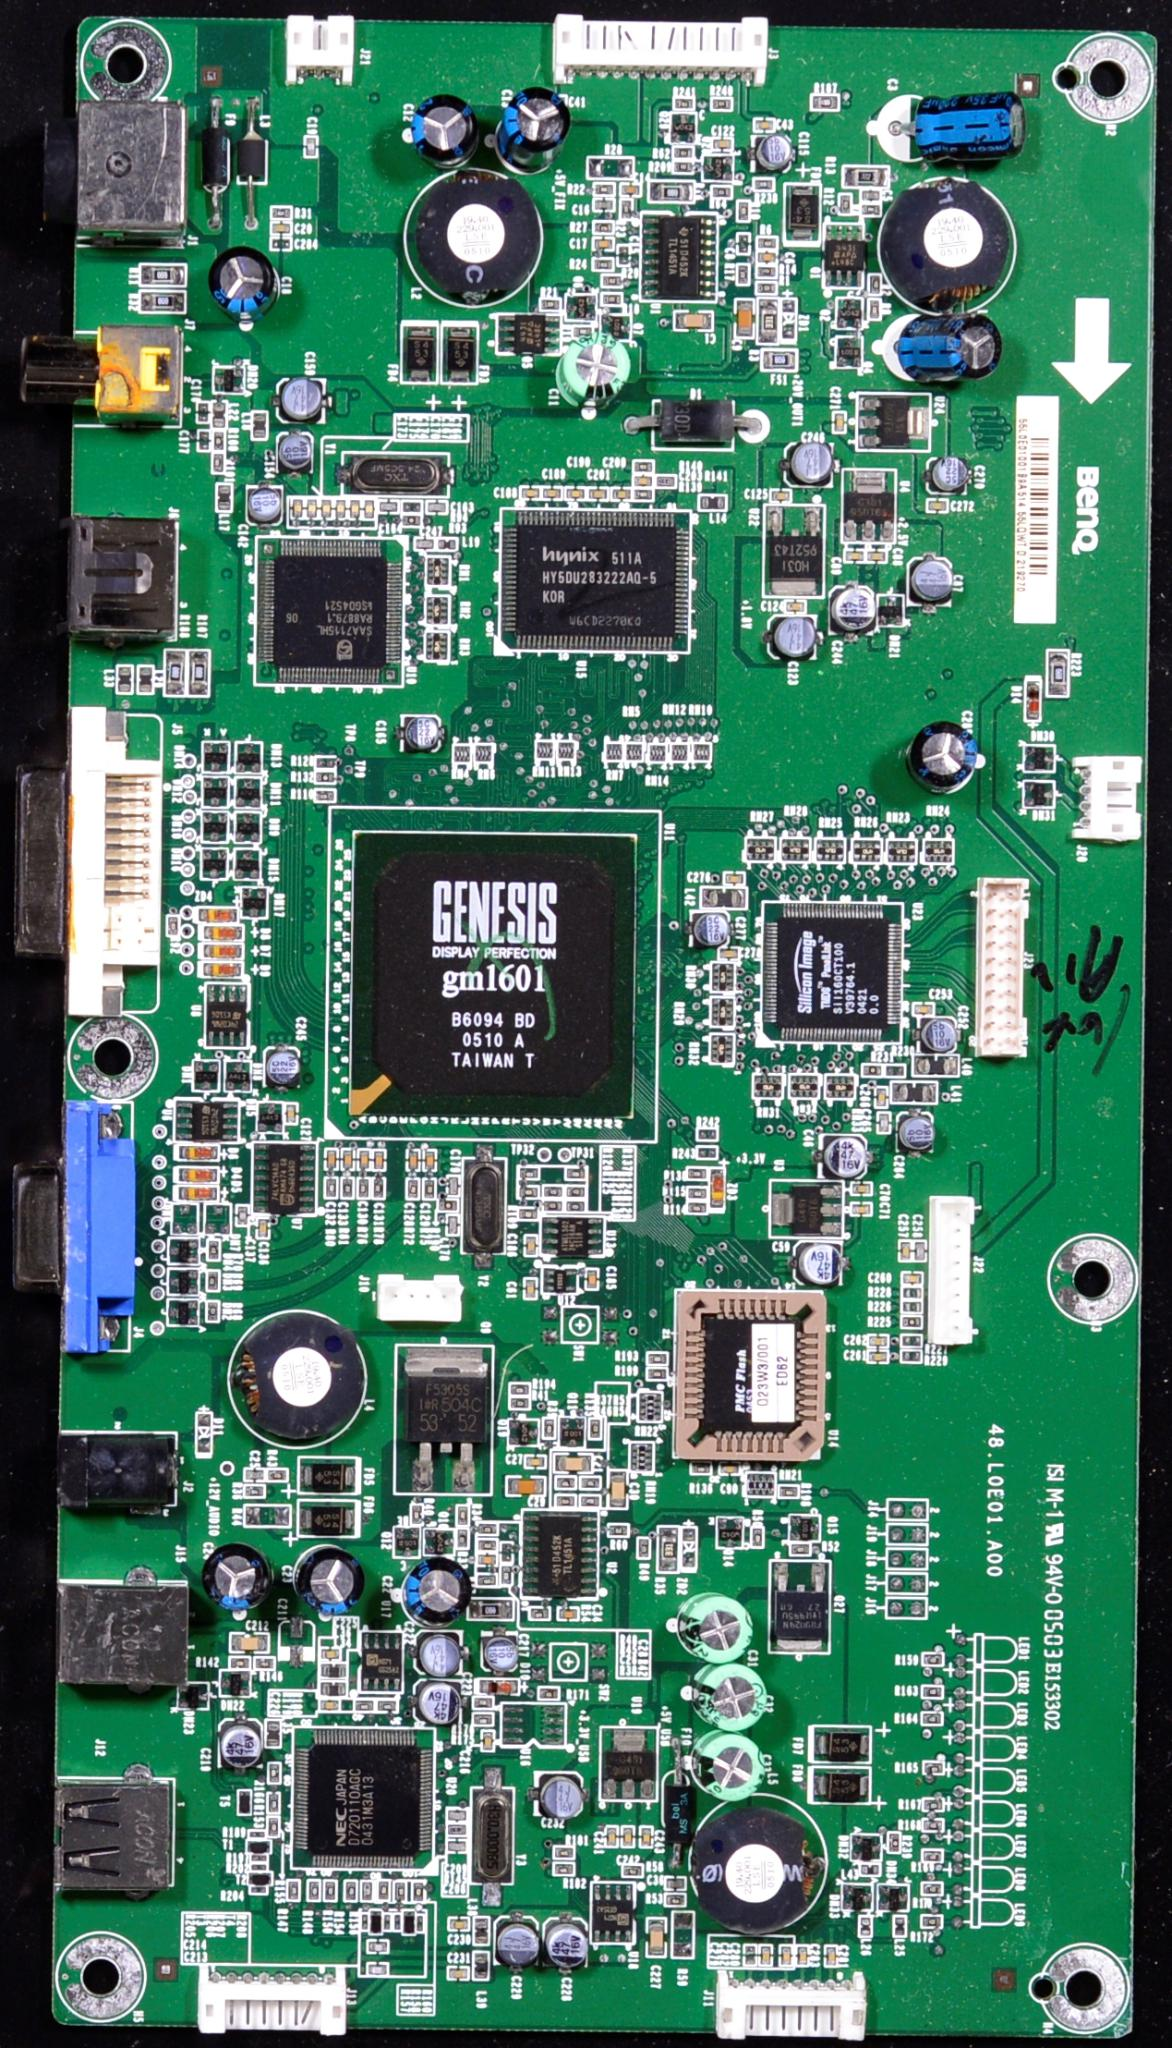Capacitor Jumper: (675, 309, 711, 331), (606, 1468, 625, 1506), (736, 300, 753, 339), (231, 1634, 266, 1651), (554, 1454, 591, 1470), (647, 1920, 663, 1955), (291, 1618, 302, 1665), (509, 1478, 542, 1494), (767, 488, 791, 502), (712, 136, 734, 151), (270, 236, 294, 249), (753, 118, 774, 132), (926, 499, 947, 513), (414, 536, 435, 550), (243, 1468, 266, 1481), (591, 236, 613, 249), (913, 1001, 933, 1016), (325, 1151, 339, 1170), (832, 412, 846, 432), (850, 1203, 871, 1215), (235, 1205, 248, 1227), (446, 1809, 467, 1822), (639, 1826, 651, 1847), (445, 1840, 466, 1852), (366, 1940, 387, 1952), (447, 1966, 469, 1979), (756, 250, 777, 263), (608, 487, 629, 499), (426, 501, 447, 513), (843, 550, 864, 563), (622, 1864, 640, 1878), (449, 1917, 467, 1931), (850, 1183, 870, 1196), (523, 1235, 536, 1255), (900, 1272, 920, 1284), (559, 1606, 578, 1619), (620, 183, 640, 196), (564, 487, 584, 499), (304, 135, 315, 156), (718, 1463, 739, 1474), (319, 1647, 340, 1658), (665, 1876, 682, 1890), (197, 402, 208, 423), (197, 430, 208, 452), (632, 474, 653, 485), (860, 188, 878, 201), (521, 485, 539, 498), (587, 487, 605, 499), (875, 1086, 886, 1106), (898, 1241, 909, 1260), (587, 1270, 598, 1290), (523, 1279, 535, 1298), (867, 1350, 886, 1362), (605, 1827, 616, 1847), (622, 1827, 633, 1847), (868, 550, 885, 563), (722, 873, 743, 883), (256, 1220, 267, 1238), (912, 1242, 923, 1260), (542, 487, 560, 498), (286, 1104, 295, 1124), (342, 1149, 352, 1169), (868, 1335, 888, 1345), (477, 1554, 497, 1564), (319, 1699, 339, 1709), (481, 1732, 491, 1751), (270, 224, 290, 233), (367, 1964, 384, 1975), (719, 948, 737, 958), (447, 1177, 457, 1196), (447, 1217, 457, 1235), (824, 1947, 834, 1965), (349, 499, 359, 518), (502, 1542, 511, 1563), (781, 1948, 791, 1965), (335, 499, 343, 519), (293, 498, 301, 516), (359, 1151, 367, 1167), (425, 1152, 433, 1169), (746, 1947, 754, 1964), (380, 502, 397, 511), (307, 501, 315, 518), (321, 499, 329, 515), (374, 1151, 381, 1169), (761, 1947, 768, 1965), (409, 1152, 416, 1167), (366, 502, 373, 516), (799, 1948, 805, 1964)
Connector: (69, 709, 163, 1016), (552, 14, 772, 84), (200, 1964, 348, 2038), (715, 1973, 862, 2042), (975, 875, 1028, 1056), (929, 1196, 981, 1345), (1072, 757, 1140, 838), (284, 13, 357, 83)
IC: (338, 823, 635, 1122), (501, 506, 688, 653), (255, 536, 402, 685), (294, 1727, 432, 1868), (764, 910, 886, 1034), (253, 1142, 314, 1214), (204, 980, 248, 1047), (176, 1099, 239, 1139), (362, 1630, 401, 1692)
Resistor Jumper: (673, 1912, 691, 1958), (246, 1508, 287, 1525), (685, 1184, 708, 1201), (810, 96, 839, 108), (632, 488, 654, 504), (554, 1476, 575, 1491), (899, 1301, 922, 1315), (736, 263, 750, 286), (695, 1146, 719, 1159), (476, 1537, 497, 1551), (592, 183, 613, 197), (875, 1113, 889, 1132), (902, 1287, 922, 1301), (356, 1177, 369, 1198), (422, 1177, 435, 1198), (900, 1335, 922, 1348), (266, 1468, 287, 1481), (778, 1484, 799, 1497), (353, 1699, 374, 1712), (266, 1793, 279, 1815), (272, 205, 293, 218), (756, 236, 777, 249), (591, 259, 612, 271), (754, 281, 775, 294), (654, 475, 675, 488), (691, 1460, 709, 1474), (581, 1495, 599, 1509), (671, 97, 694, 108), (684, 1166, 706, 1177), (685, 1201, 708, 1212), (900, 1350, 923, 1362), (671, 146, 694, 158), (315, 757, 338, 768), (884, 1065, 903, 1077), (696, 1128, 716, 1141), (207, 1270, 219, 1290), (205, 1300, 218, 1319), (207, 1301, 219, 1321), (647, 1352, 667, 1364), (554, 1492, 574, 1505), (789, 1543, 809, 1556), (266, 1816, 279, 1836), (736, 200, 749, 219), (756, 264, 775, 277), (211, 430, 224, 450), (315, 769, 335, 782), (709, 98, 730, 110), (407, 1177, 418, 1198), (373, 1177, 384, 1198), (208, 1239, 219, 1260), (588, 1416, 599, 1438), (537, 1687, 559, 1698), (269, 1762, 280, 1784), (888, 1831, 899, 1852), (601, 274, 622, 286), (601, 293, 622, 304), (211, 452, 222, 473), (499, 1564, 512, 1582), (674, 160, 692, 173), (839, 196, 851, 214), (166, 917, 177, 937), (900, 1317, 920, 1328), (476, 1522, 495, 1533), (476, 1574, 495, 1585), (473, 1696, 492, 1708), (377, 1699, 397, 1710), (473, 1712, 492, 1723), (922, 1850, 941, 1861), (509, 1397, 526, 1409), (526, 1454, 543, 1467), (326, 1177, 336, 1198), (342, 1177, 352, 1198), (542, 1416, 552, 1438), (639, 1537, 649, 1559), (862, 1063, 881, 1075), (439, 1198, 457, 1210), (566, 1200, 584, 1211), (529, 1606, 547, 1618), (920, 1712, 938, 1723), (447, 1824, 466, 1836), (753, 179, 771, 190), (594, 221, 612, 232), (315, 789, 333, 800), (646, 1367, 665, 1377), (578, 1477, 598, 1487), (608, 1526, 628, 1536), (229, 1657, 249, 1667), (253, 1658, 273, 1668), (923, 1687, 943, 1696), (632, 461, 651, 471), (511, 1384, 528, 1395), (923, 1762, 940, 1774), (923, 1914, 940, 1926), (567, 1186, 585, 1196), (554, 1864, 573, 1874), (308, 1881, 318, 1899), (712, 186, 730, 196), (543, 1187, 563, 1196), (544, 1201, 561, 1211), (243, 1487, 263, 1495), (923, 1654, 940, 1664), (923, 1799, 940, 1809), (923, 1820, 940, 1830), (554, 1847, 571, 1857), (287, 1881, 297, 1897), (249, 1885, 266, 1895), (377, 1882, 387, 1899), (346, 1882, 356, 1899), (362, 1883, 371, 1900), (412, 1883, 422, 1900), (566, 1169, 584, 1177), (250, 1852, 269, 1861), (325, 1882, 335, 1897), (519, 1187, 536, 1196), (249, 1830, 266, 1838), (922, 1883, 938, 1892), (252, 1861, 267, 1869), (395, 1883, 404, 1899), (519, 1210, 535, 1217), (522, 1170, 536, 1177), (362, 1914, 367, 1928), (383, 1916, 388, 1928), (418, 1914, 422, 1930), (394, 1914, 398, 1927)
Transistor: (764, 506, 822, 594), (767, 1180, 844, 1238), (601, 1724, 657, 1799), (841, 470, 893, 540), (860, 395, 926, 449), (495, 315, 557, 354), (823, 224, 861, 287), (540, 1266, 577, 1294), (840, 1883, 871, 1913), (877, 1883, 909, 1912), (166, 1238, 200, 1265), (850, 1836, 882, 1862), (789, 1513, 819, 1542), (564, 293, 594, 321), (837, 336, 862, 369), (602, 314, 632, 340), (167, 1269, 198, 1294), (716, 1516, 740, 1549), (877, 594, 900, 626), (509, 1418, 537, 1445), (836, 297, 861, 326), (193, 1059, 217, 1090), (167, 1300, 198, 1324), (559, 1415, 582, 1446), (224, 1062, 249, 1090), (670, 113, 694, 142), (241, 888, 265, 917), (257, 1103, 281, 1131), (235, 778, 259, 806), (234, 813, 257, 841), (203, 778, 227, 805), (235, 850, 259, 876), (203, 813, 225, 841), (204, 743, 227, 769), (203, 850, 225, 876), (238, 744, 260, 769)
